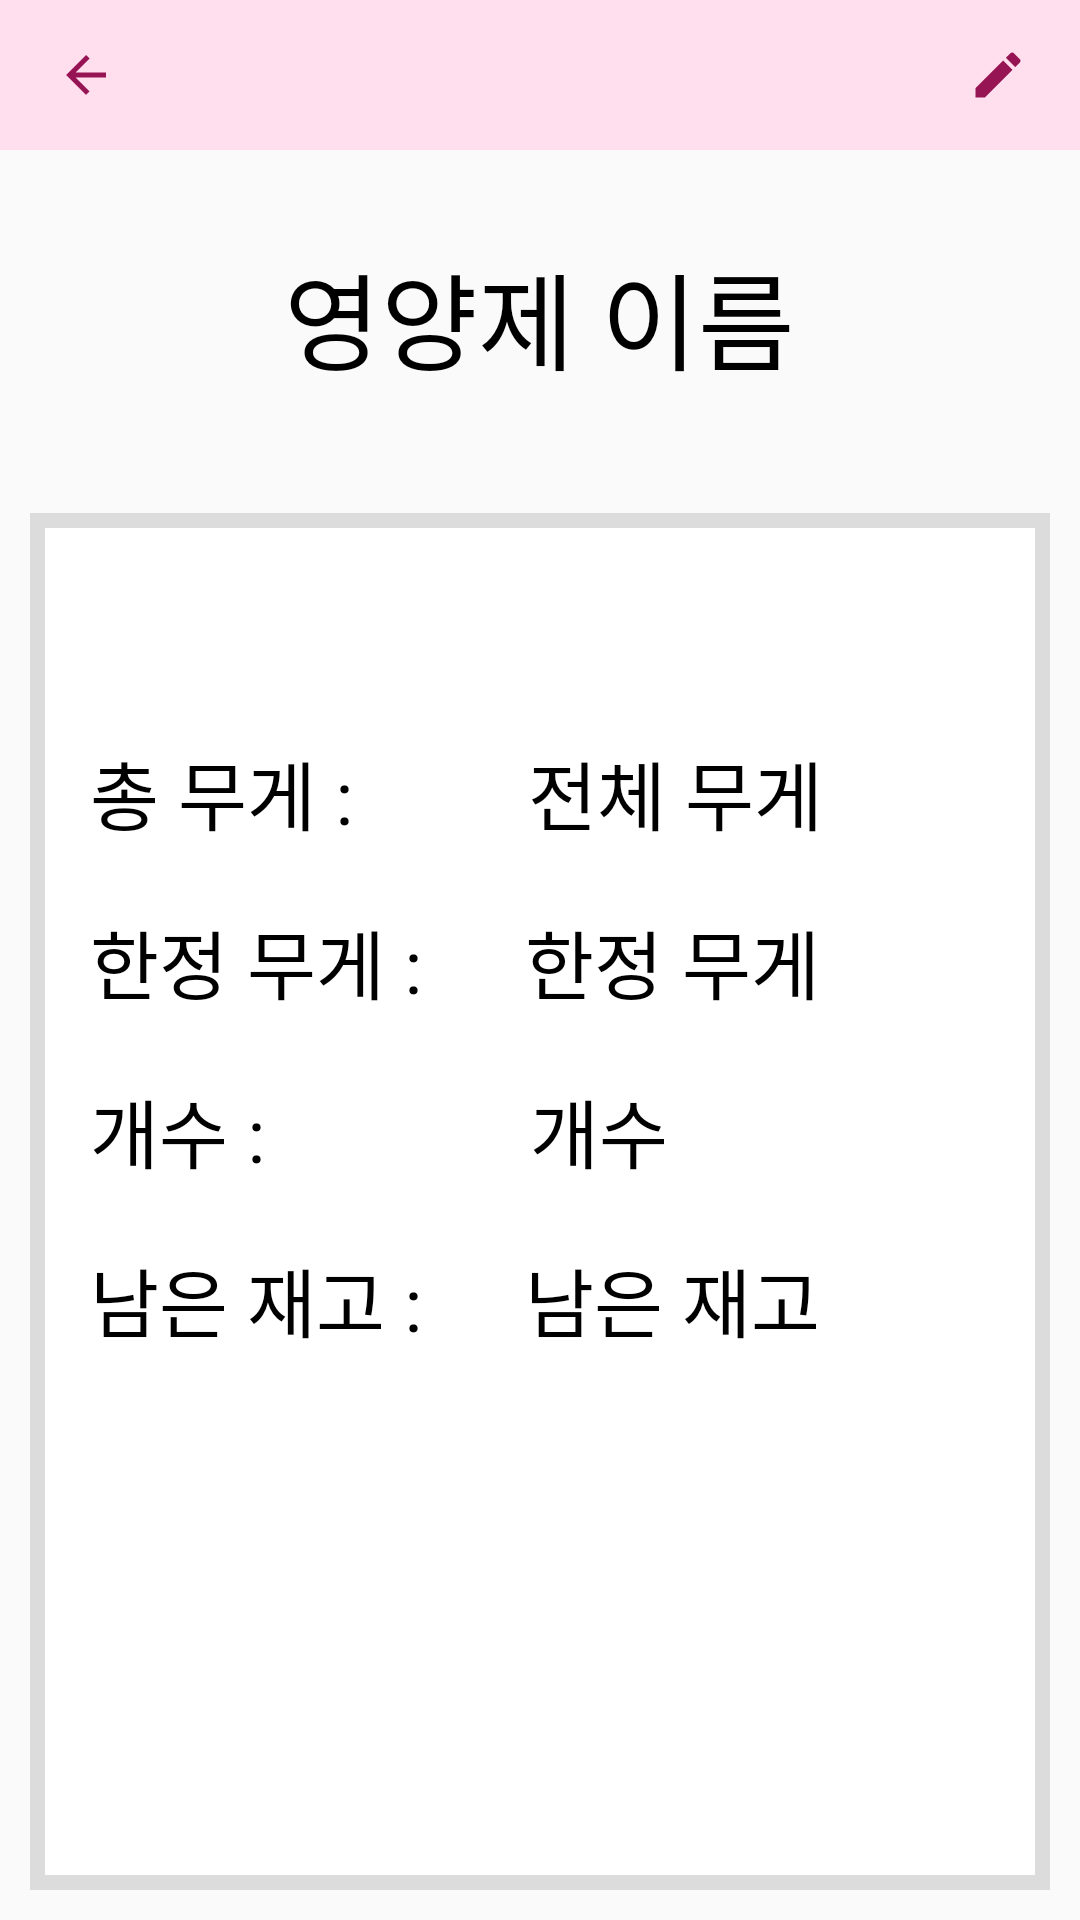

Screen size 1080*1920. Icon name, then its center in pixels as (x=x, y=y):
backarrow: (x=86, y=75)
edit: (x=998, y=75)
